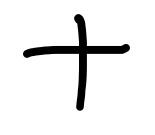plus: (22, 14, 130, 111)
